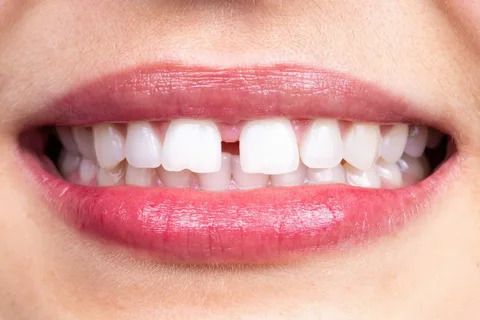Gap: (187, 120, 271, 172)
